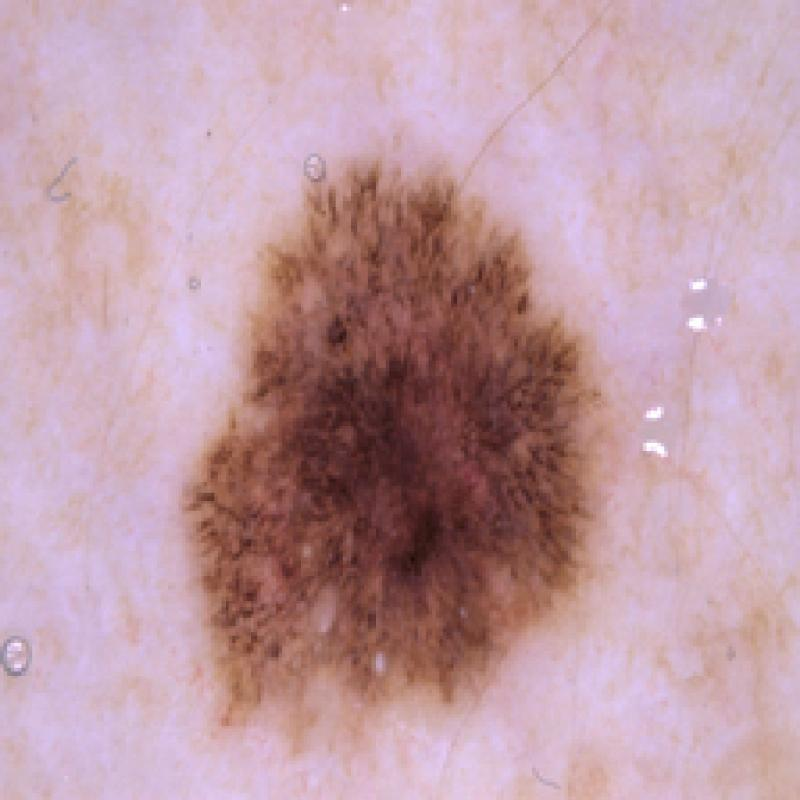benign: (172, 134, 642, 757)
